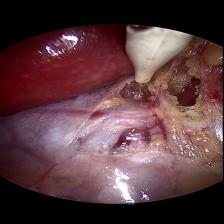Hook: (123, 23, 193, 93)
